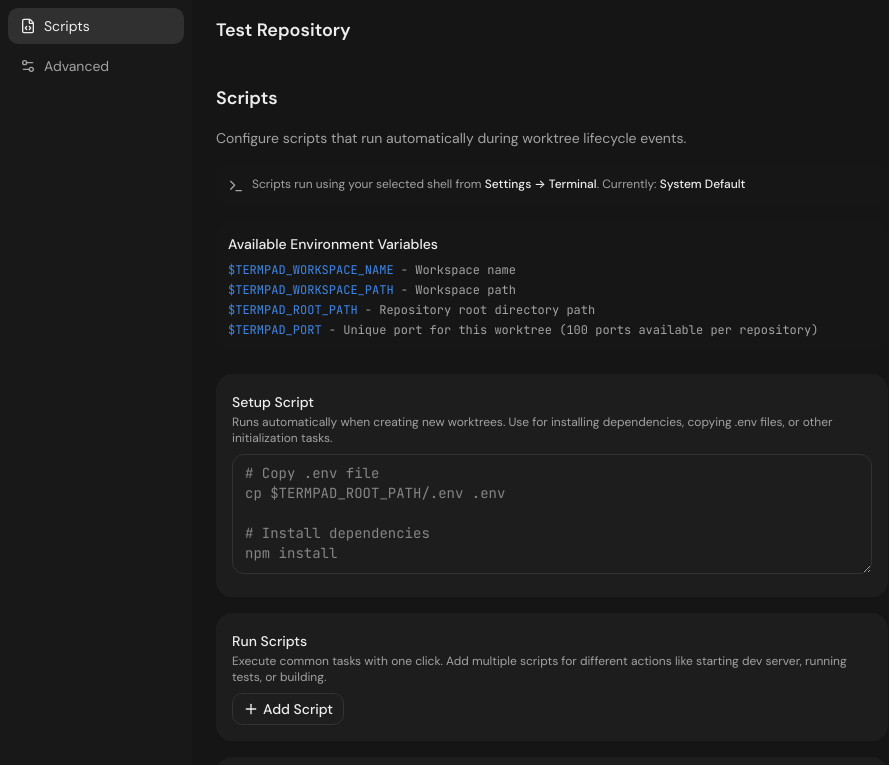
Test: RepositorySettingsOverlay › nonconcurrent mode › loads existing nonconcurrent mode setting from repository
// Click Advanced tab
Click the button "Advanced" at (96, 66), box [8,48,184,84]
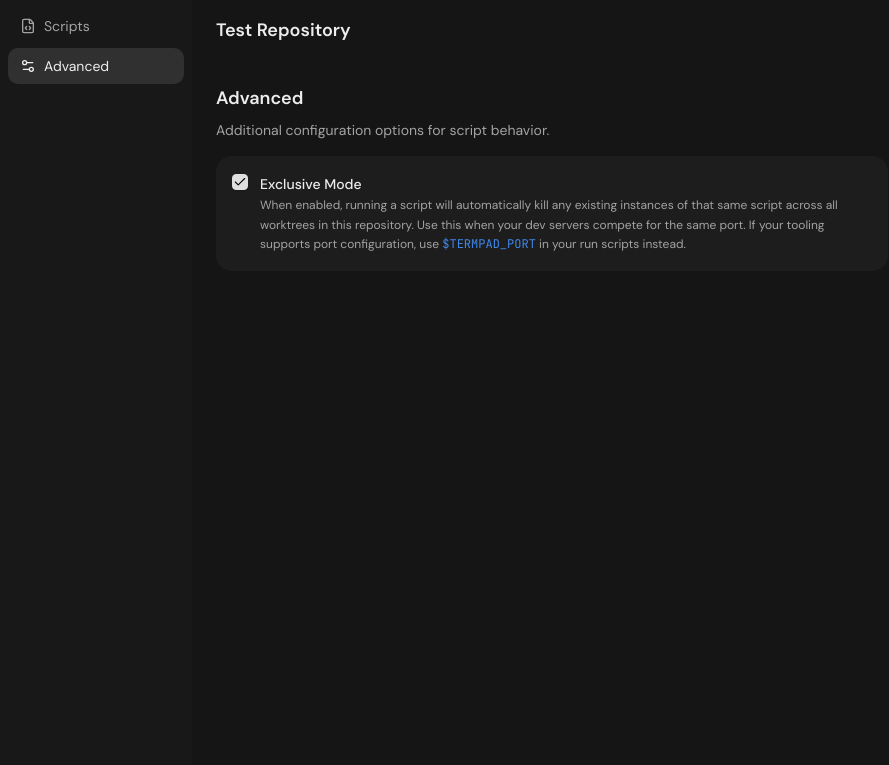
Expected: the checkbox with test id "exclusive-mode-checkbox" is checked, [232,174,248,190]
